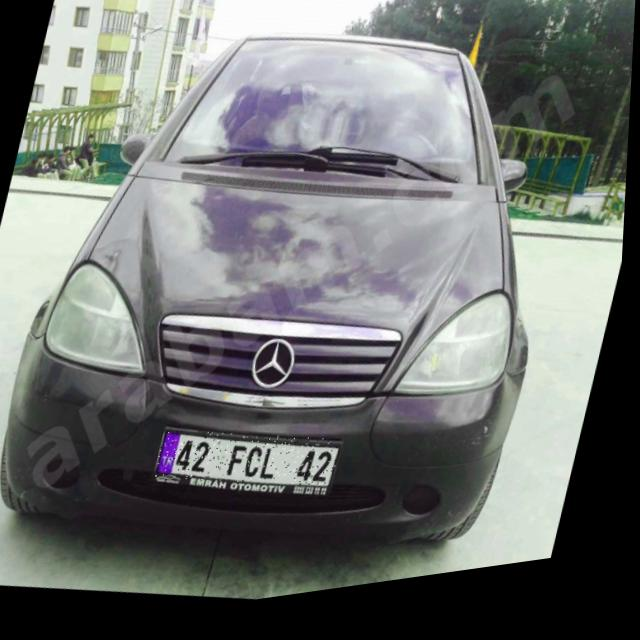license_plate: (158, 416, 349, 518)
